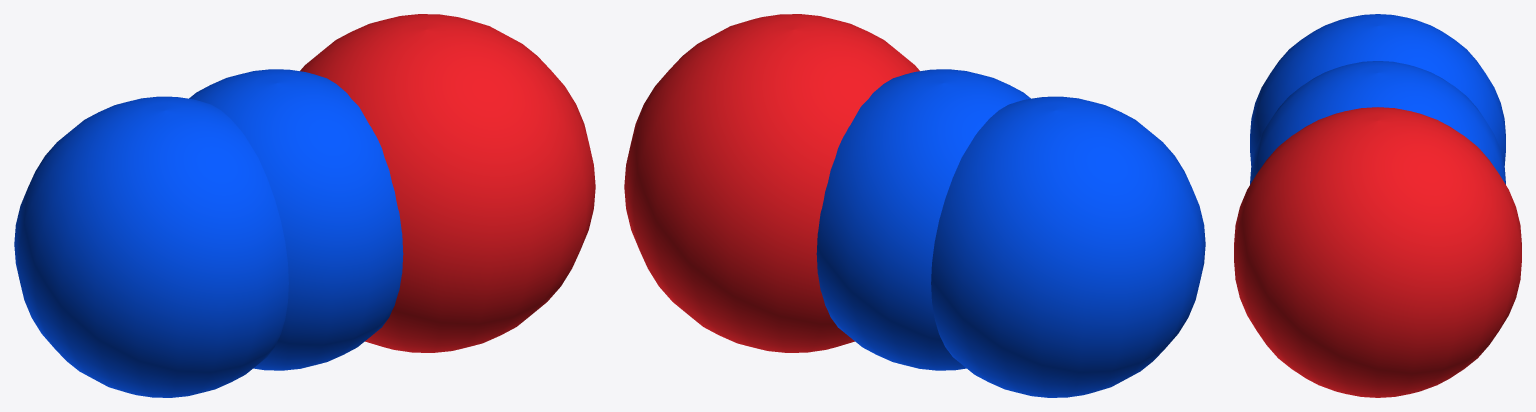
The picture shows the model from 3 angles, left to right: view 1: azimuth 30°, elevation 25°; view 2: azimuth 150°, elevation 25°; view 3: azimuth 270°, elevation 25°; orthographic projection. The views are drawn at different scales.
Parts seen in each view (by area): view 1: Сферы_Node (×3); view 2: Сферы_Node (×3); view 3: Сферы_Node (×3).
Boxes of the visible parts, x1,y1,x2,y2 form: Сферы_Node (×3): [14, 14, 595, 397]; Сферы_Node (×3): [624, 14, 1205, 397]; Сферы_Node (×3): [1234, 14, 1521, 397].
Bounding box in the file's own units: 2.89 × 1.57 × 1.56.
Materials: 2 (2 with a texture image).
